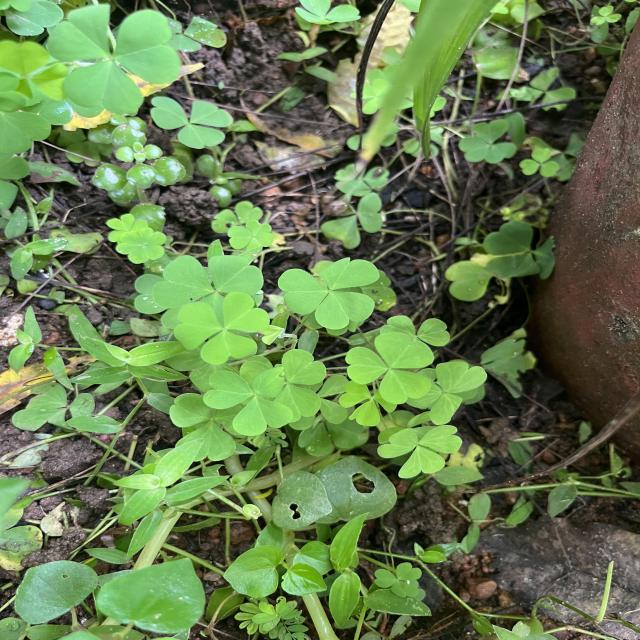Oxalis corniculata: (41, 3, 189, 115), (277, 256, 381, 330), (174, 291, 271, 367), (344, 332, 437, 405), (152, 252, 266, 308), (202, 369, 295, 436), (150, 93, 233, 150), (376, 425, 464, 478), (458, 118, 518, 164), (116, 227, 166, 264), (373, 561, 423, 598), (227, 219, 274, 250), (519, 146, 561, 178)
